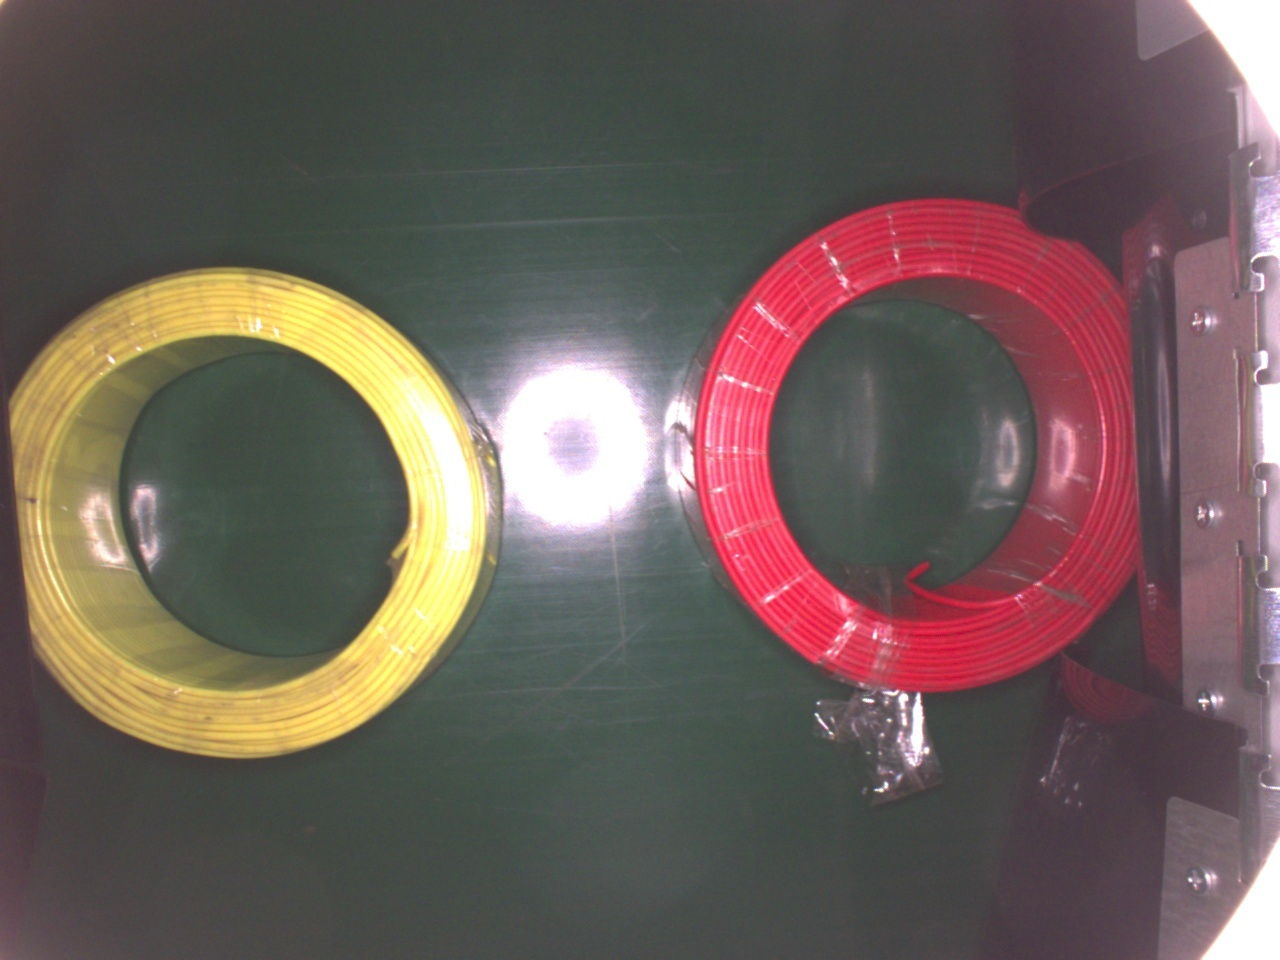red: (671, 195, 1141, 695)
yellow: (10, 264, 506, 765)
